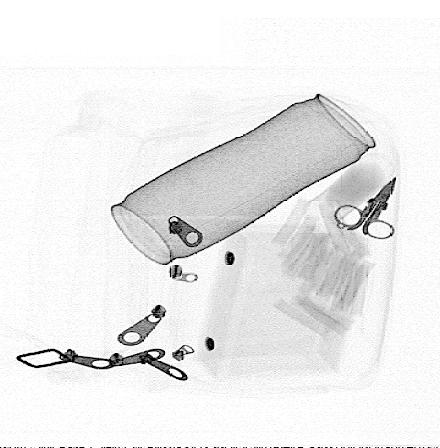Scissors: (332, 179, 398, 240)
